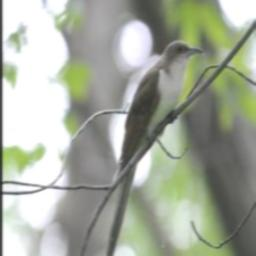Cuckoo: (101, 36, 203, 256)
